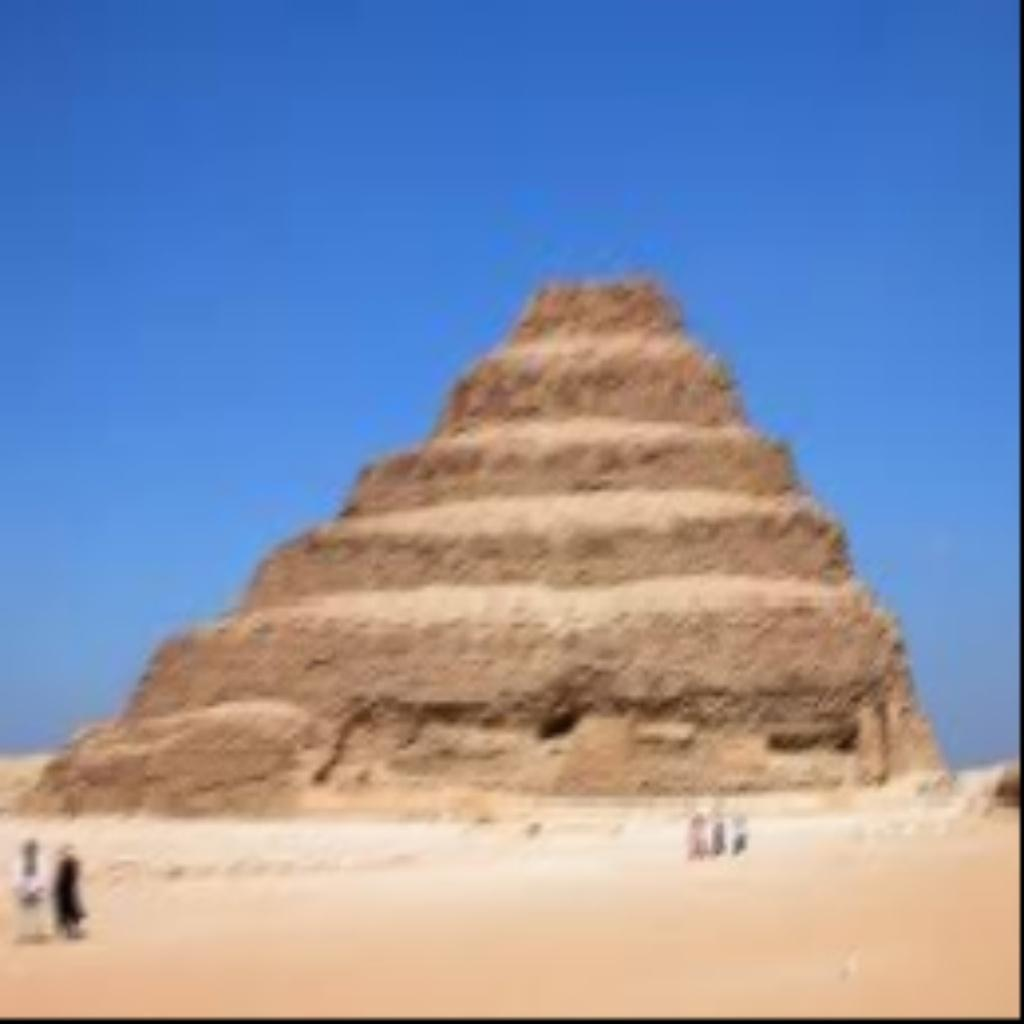Pyramid of Djoser: (32, 253, 952, 813)
